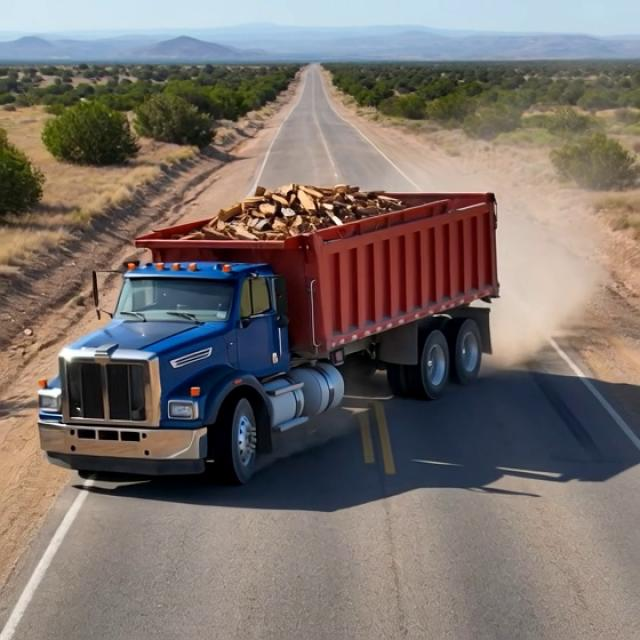trailer: (124, 182, 498, 260)
truck: (32, 165, 525, 476)
